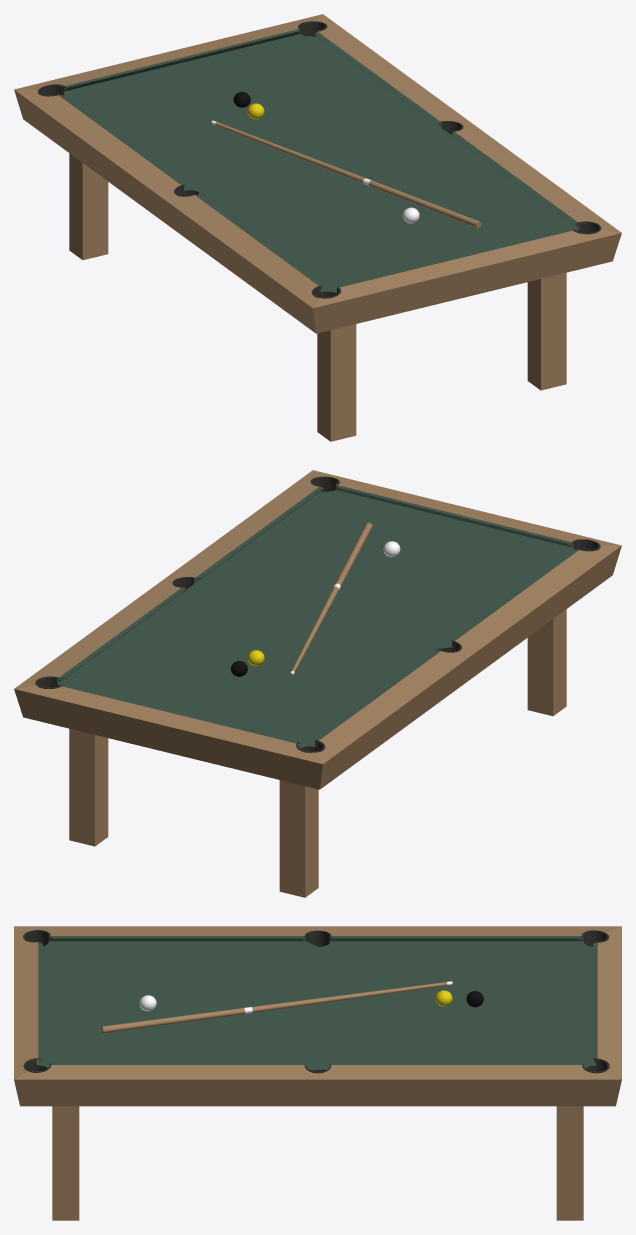
Rendered from Akademik_stół-bilardowy-ex.fbx.
3 renders of one model, top to bottom at view 1: azimuth 30°, elevation 25°; view 2: azimuth 150°, elevation 25°; view 3: azimuth 270°, elevation 25°, orthographic.
Visible parts, largest first — view 1: Model; view 2: Model; view 3: Model.
Boxes of the visible parts, x1,y1,x2,y2 form: Model: [14, 14, 621, 441]; Model: [14, 470, 621, 897]; Model: [14, 926, 621, 1220].
Size of the model in its own units: 1.55 by 0.8055 by 2.6.
